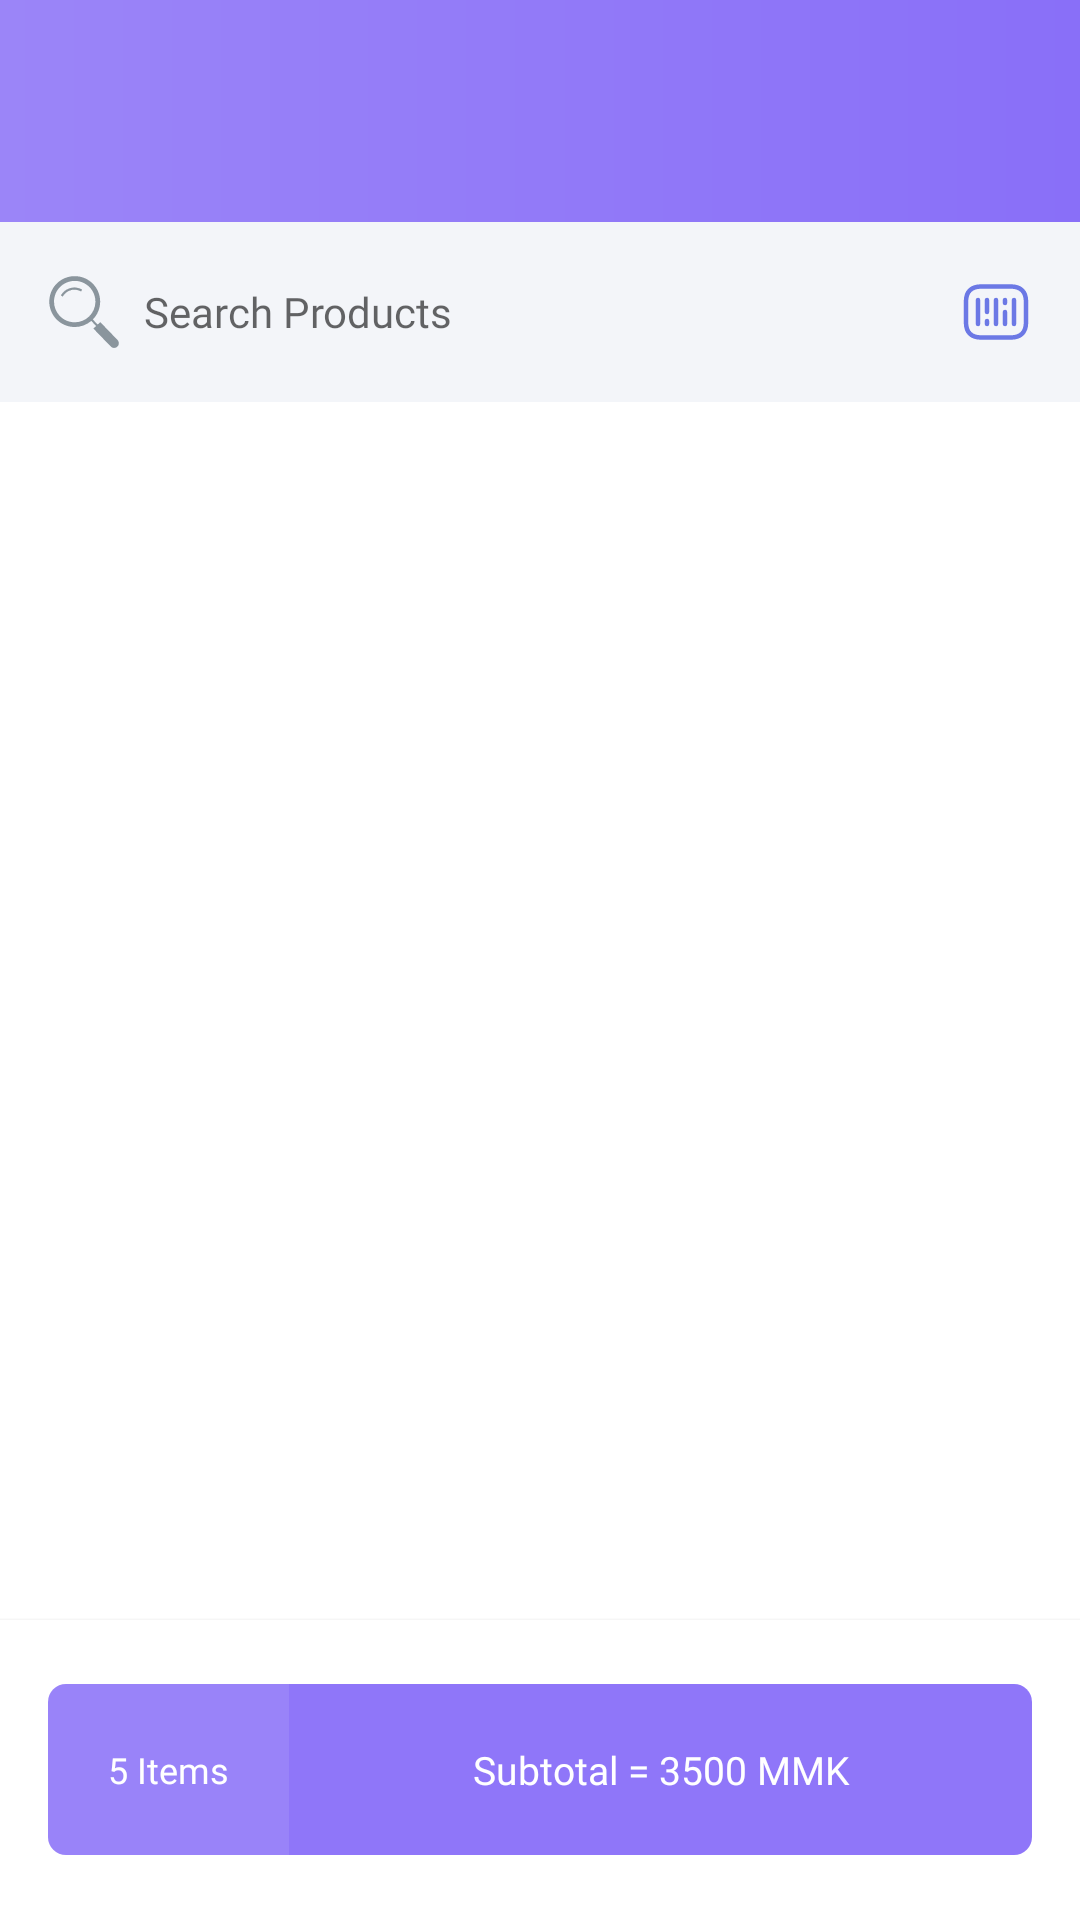

Screen size 1080w x 1920h. Icon name, then its box in pixels as rect(x1, y1, x2, y2):
barcode: rect(963, 284, 1029, 340)
